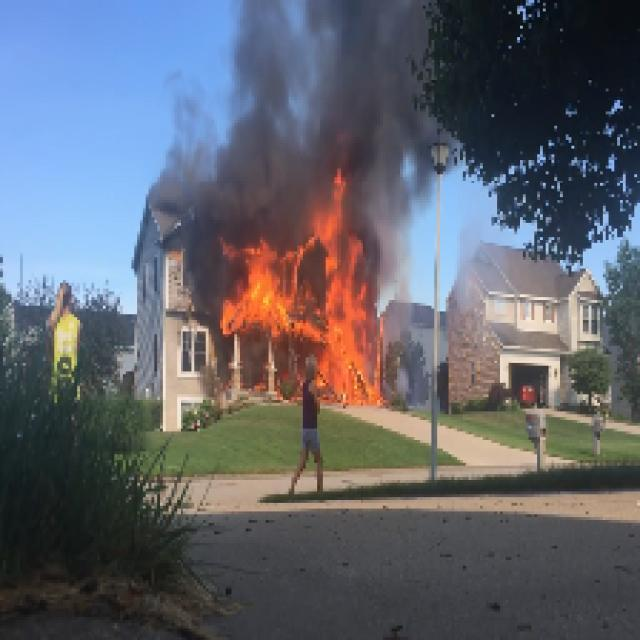Fire: (214, 172, 382, 425)
Smoke: (262, 5, 418, 138)
